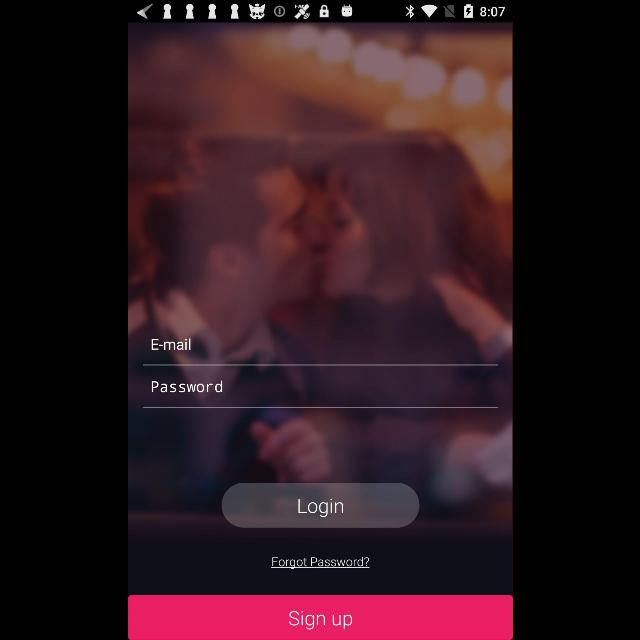backgroundimage: (128, 23, 512, 595)
input: (142, 338, 498, 366), (142, 380, 498, 408)
text: (271, 557, 369, 569), (150, 381, 222, 394), (152, 338, 190, 350)
textbutton: (128, 596, 512, 640), (221, 482, 419, 528)
uppertaskbar: (128, 1, 512, 23)
